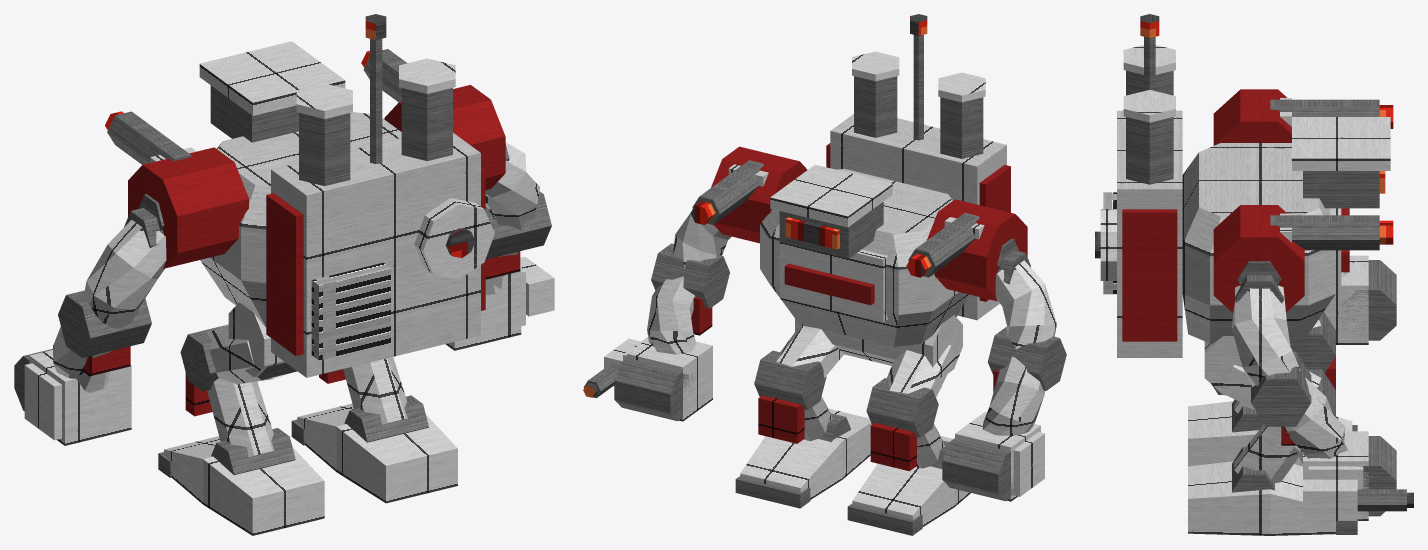
The model's file is mandrill.glb.
The picture shows the model from 3 angles, left to right: view 1: azimuth 30°, elevation 25°; view 2: azimuth 150°, elevation 25°; view 3: azimuth 270°, elevation 25°; orthographic projection. The views are drawn at different scales.
Visible parts, largest first — view 1: rack, pauldron, foot, foot.001, torso, vent_block, brow, upper_arm, rack_stripe, fist, corona_dish, pauldron.001 (+27 smaller); view 2: torso, rack, foot.001, pauldron, brow, chest_plate, foot, pauldron.001, upper_arm, knuckles.001, knuckles, forearm (+31 smaller); view 3: torso, rack_stripe.001, foot.001, pauldron.001, rack, brow, upper_arm.001, pauldron, umbra_projector.001, foot, flare_pod.001, elbow.001 (+26 smaller).
Boxes of the visible parts, x1,y1,x2,y2 form: rack: (271, 133, 480, 377); pauldron: (128, 147, 248, 268); foot: (164, 436, 324, 535); foot.001: (297, 403, 457, 503); torso: (200, 112, 401, 327); vent_block: (311, 262, 390, 360); brow: (199, 41, 345, 115); upper_arm: (83, 220, 166, 328); rack_stripe: (266, 193, 303, 355); fist: (29, 350, 131, 445); corona_dish: (414, 198, 494, 279); pauldron.001: (384, 85, 505, 189); torso: (760, 169, 968, 346); rack: (830, 114, 1006, 320); foot.001: (740, 408, 871, 499); pauldron: (927, 199, 1027, 301); brow: (770, 164, 892, 227); chest_plate: (779, 242, 888, 322); foot: (852, 436, 970, 526); pauldron.001: (711, 146, 807, 243); upper_arm: (995, 260, 1056, 349); knuckles.001: (614, 358, 695, 421); knuckles: (942, 438, 1013, 501); forearm: (982, 356, 1044, 435); torso: (1182, 143, 1335, 343); rack_stripe.001: (1122, 209, 1177, 341); foot.001: (1188, 461, 1335, 535); pauldron.001: (1213, 205, 1304, 312); rack: (1117, 110, 1182, 357); brow: (1292, 117, 1390, 170); upper_arm.001: (1232, 285, 1300, 386); pauldron: (1213, 89, 1291, 145); umbra_projector.001: (1270, 215, 1379, 250); foot: (1188, 401, 1352, 466); flare_pod.001: (1126, 117, 1173, 184); elbow.001: (1251, 351, 1311, 426).
Bounding box in the file's own units: 97 × 94.5 × 58.25.
7 materials, 7 textured.
